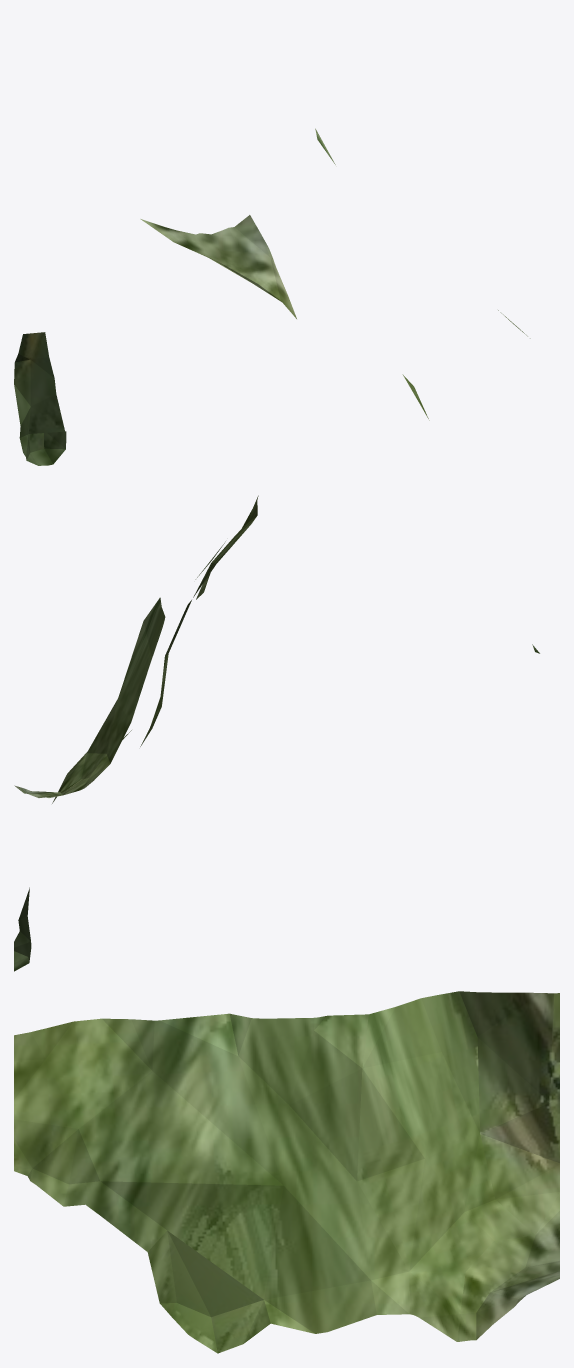
The picture shows the model from 3 angles, top to bottom: view 1: azimuth 30°, elevation 25°; view 2: azimuth 150°, elevation 25°; view 3: azimuth 270°, elevation 25°; orthographic projection. The views are drawn at different scales.
Size of the model in its own units: 2.95 by 1.72 by 2.95.
Materials: 1 (1 with a texture image).
